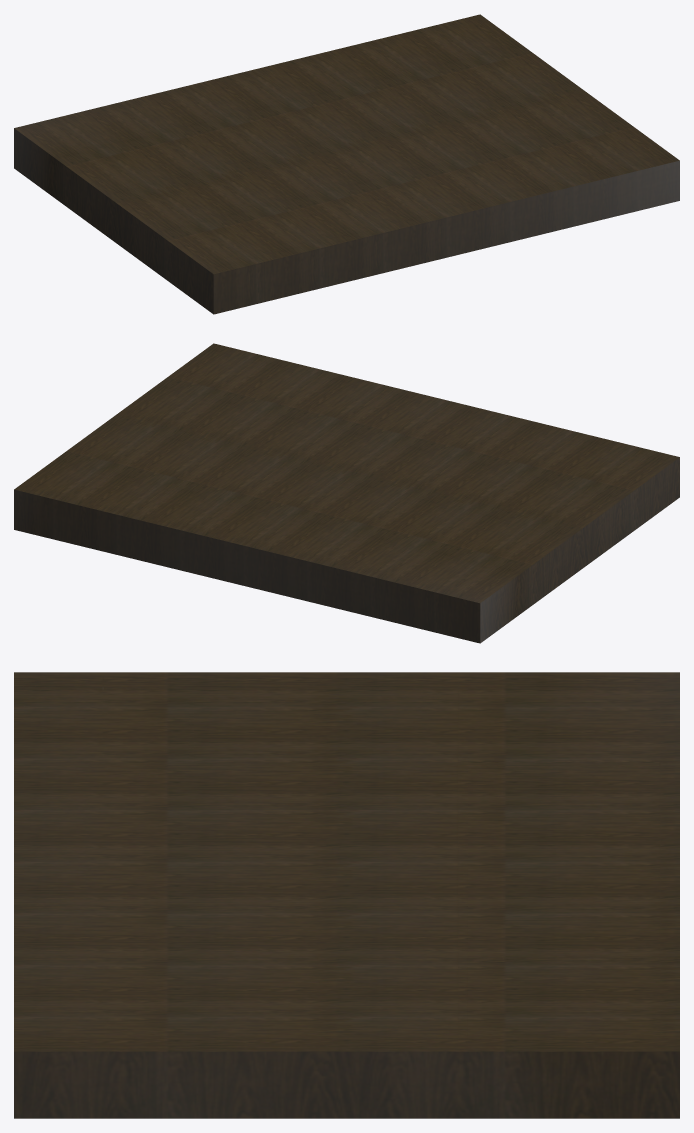
Rendered from raw_model.glb.
The picture shows the model from 3 angles, top to bottom: view 1: azimuth 30°, elevation 25°; view 2: azimuth 150°, elevation 25°; view 3: azimuth 270°, elevation 25°; orthographic projection. The views are drawn at different scales.
Parts seen in each view (by area): view 1: raw_model.005; view 2: raw_model.005; view 3: raw_model.005.
Boxes of the visible parts, <box> form: raw_model.005: <box>14,14,679,314</box>; raw_model.005: <box>14,343,679,643</box>; raw_model.005: <box>14,672,679,1118</box>.
Size of the model in its own units: 3.64 by 0.3 by 2.7.
1 material, 1 textured.
